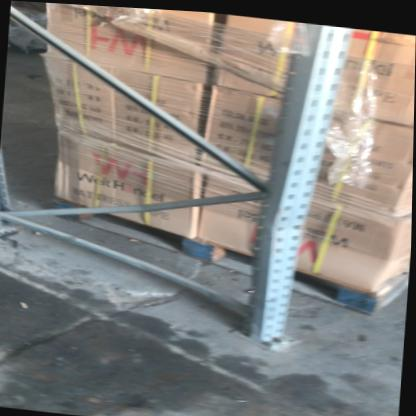vertical_damage: (256, 191, 320, 251)
